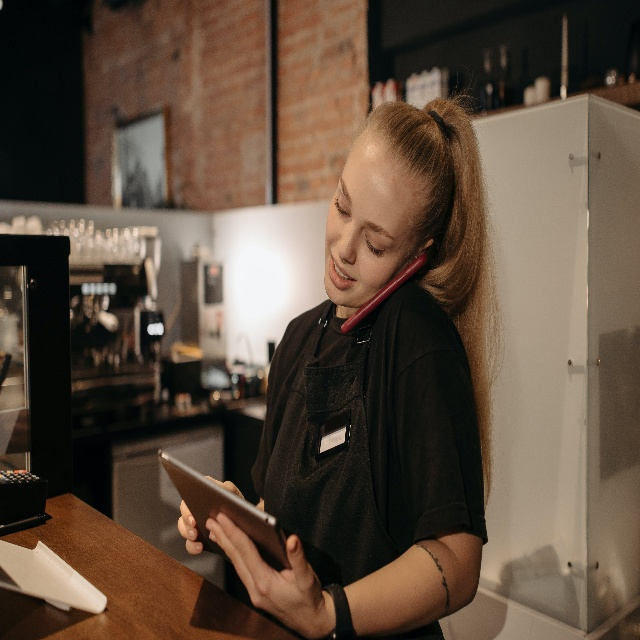Sin_guantes: (206, 511, 328, 639), (177, 499, 203, 556)
